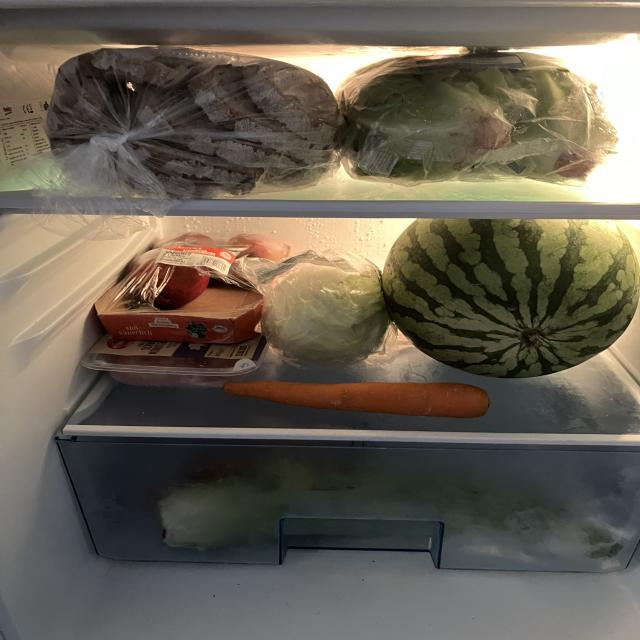Apples: (98, 224, 278, 342)
Meat: (85, 337, 266, 388)
Vegetable: (158, 461, 615, 559)
Watermelon: (388, 216, 640, 377)
bread: (28, 42, 336, 191)
cabbage: (265, 243, 385, 368)
carrot: (225, 378, 495, 424)
lettuce: (344, 46, 618, 187)
